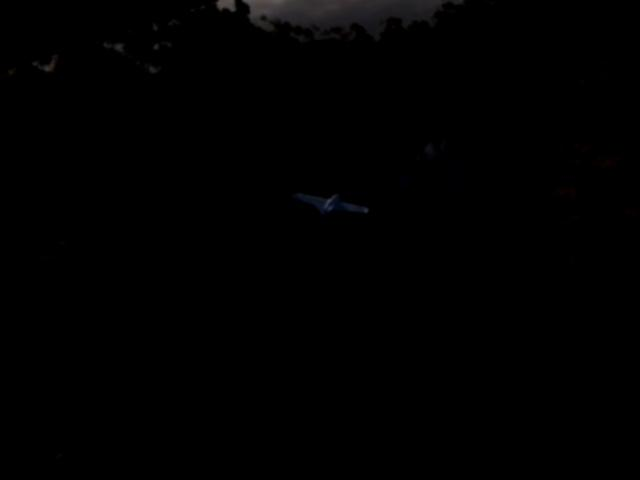uav: (286, 173, 372, 245)
